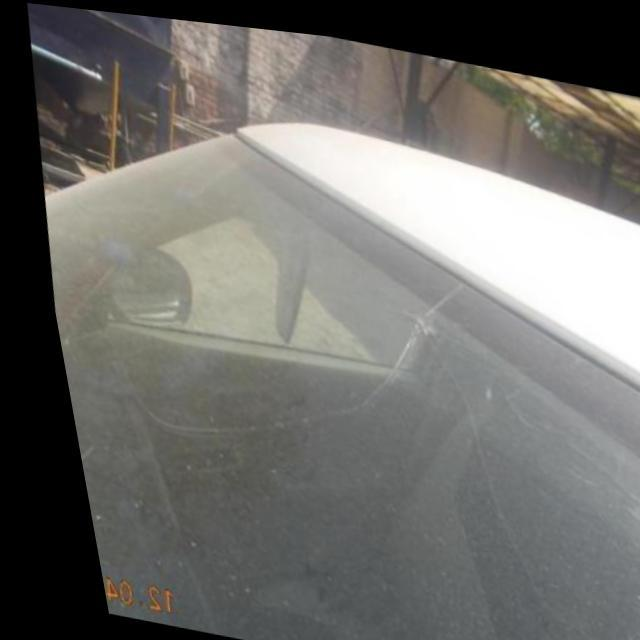glass shatter: (387, 284, 442, 363)
